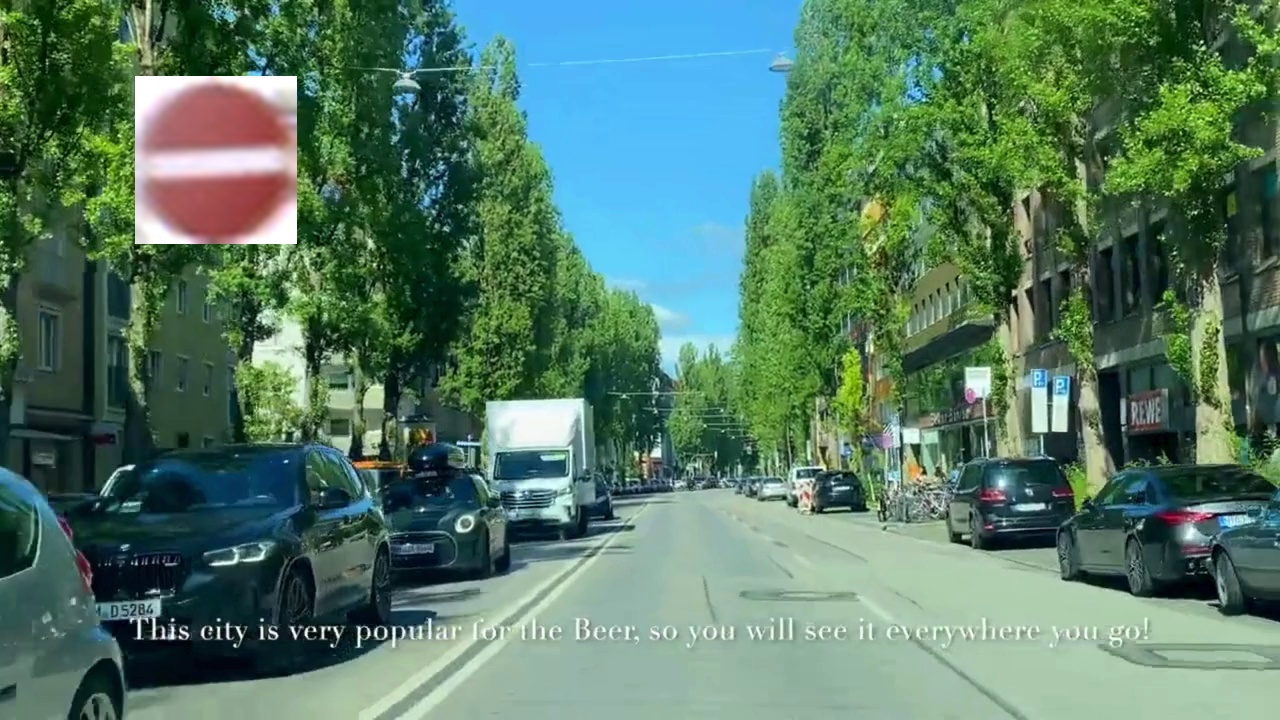No entry: (135, 76, 297, 244)
